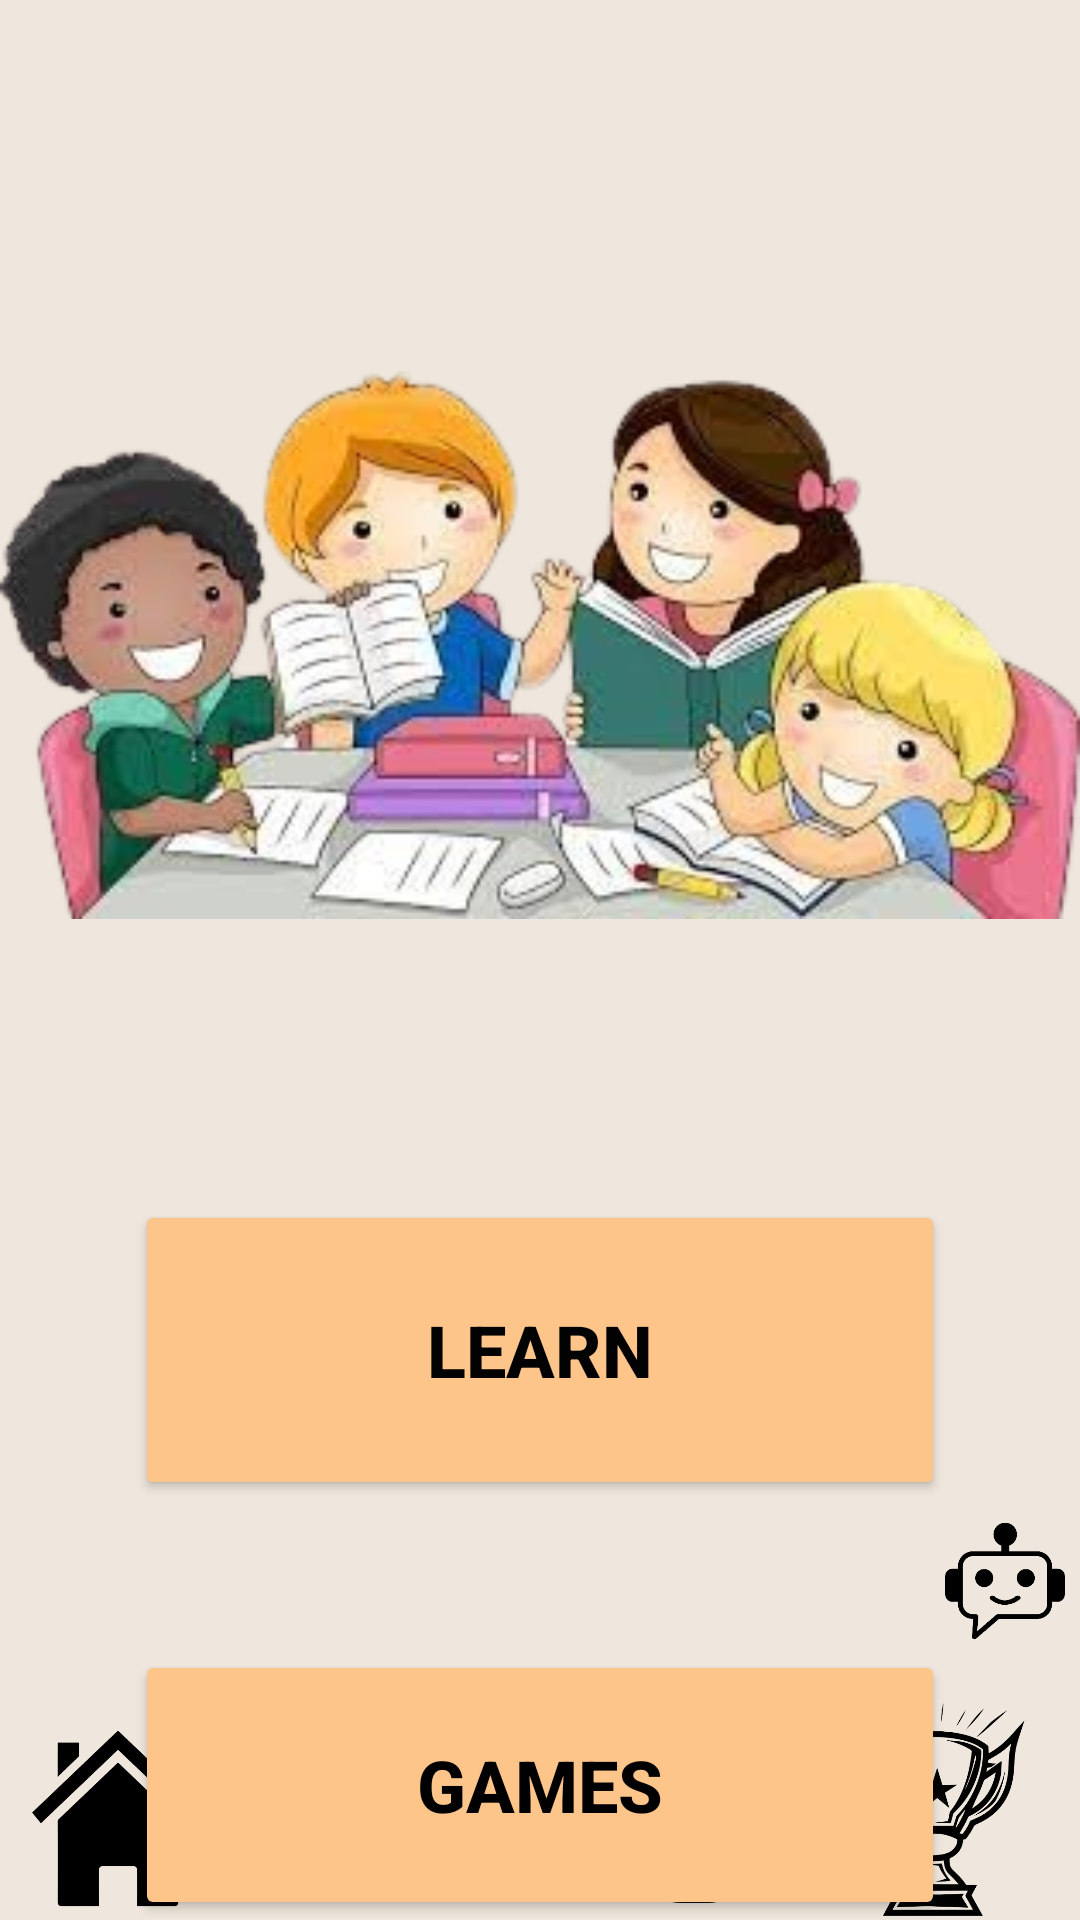

Point at icon controls on the screen. Image size 1080x1920, points as (x=x, y=y).
chatbot: (x=1005, y=1581)
